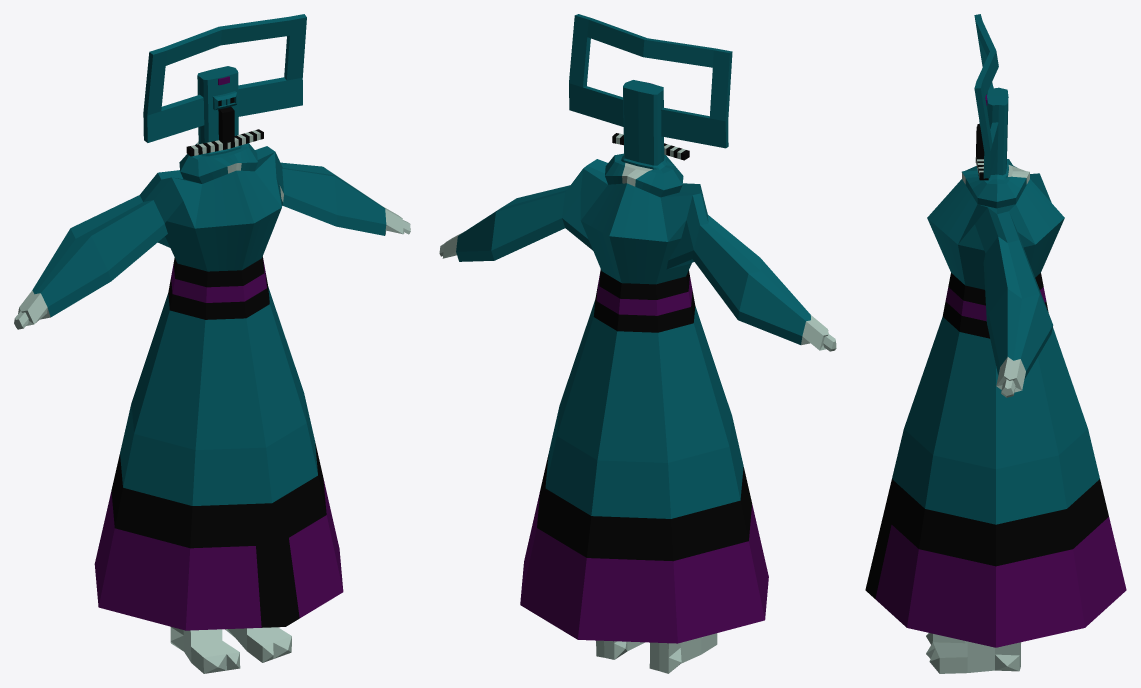
File: wizzzard.fbx
3 renders of one model, left to right at view 1: azimuth 30°, elevation 25°; view 2: azimuth 150°, elevation 25°; view 3: azimuth 270°, elevation 25°, orthographic. The views are drawn at different scales.
Parts seen in each view (by area): view 1: Cube; view 2: Cube; view 3: Cube.
Boxes of the visible parts, bbox=[...] form: Cube: bbox=[14, 14, 410, 673]; Cube: bbox=[439, 14, 836, 673]; Cube: bbox=[865, 14, 1126, 673].
Size of the model in its own units: 147 by 219 by 85.82.
